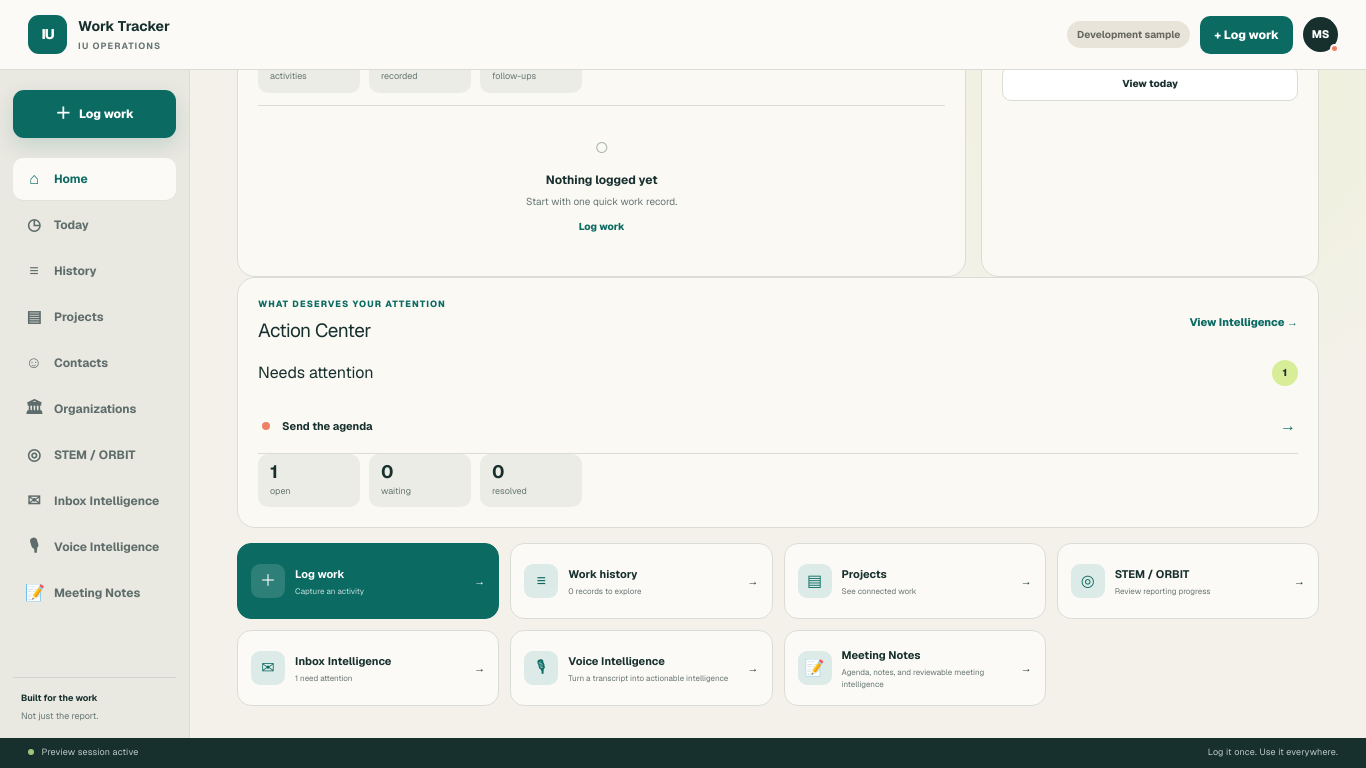
Scenario: Dashboard Action Center — navigation › reaches Inbox Intelligence when a Needs Attention row is clicked
This screenshot has width=1366, height=768.
(page scrolled)
Expected: the heading "Action Center" is shown, [258,318,371,343]
Click the text "Send the agenda".
click(327, 426)  # box [282,419,372,433]
(page scrolled)
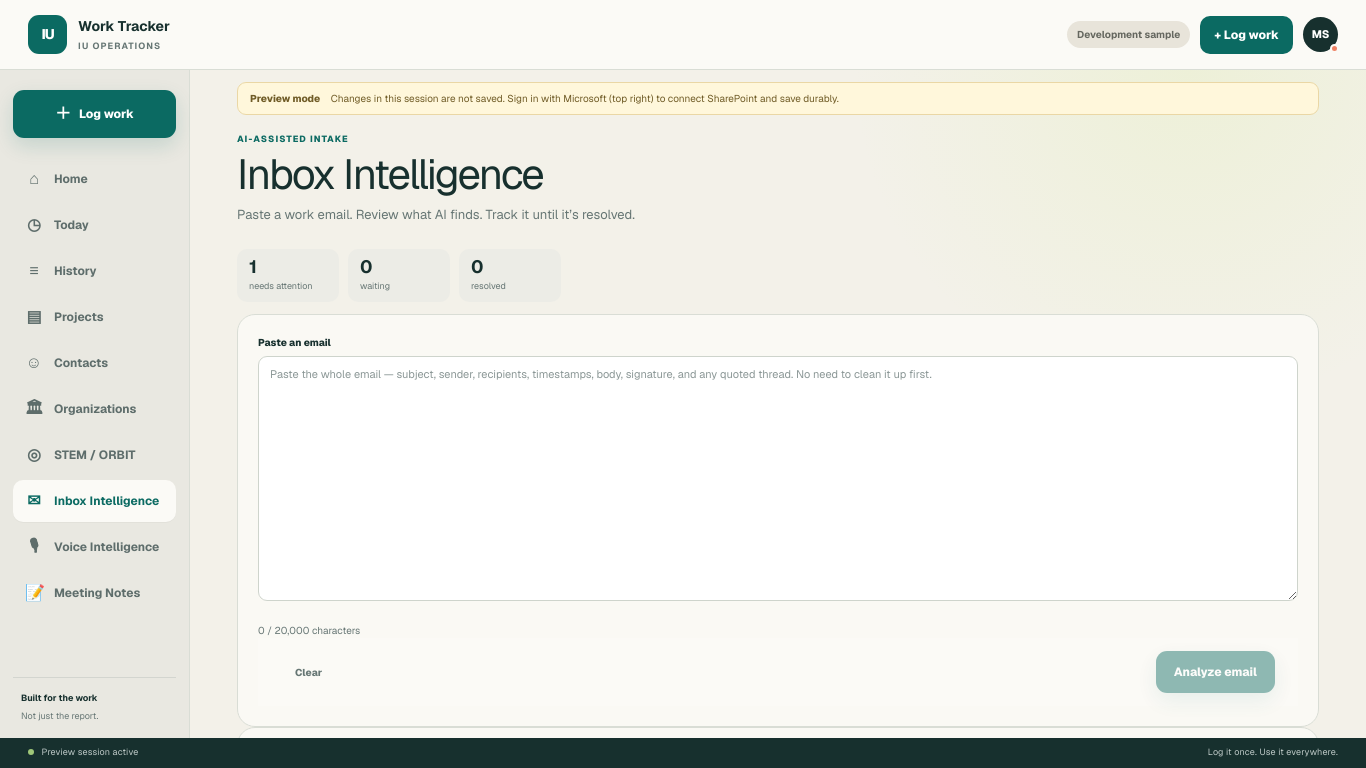
Result: the text "AI-assisted intake" is shown at [237,133,349,145]
